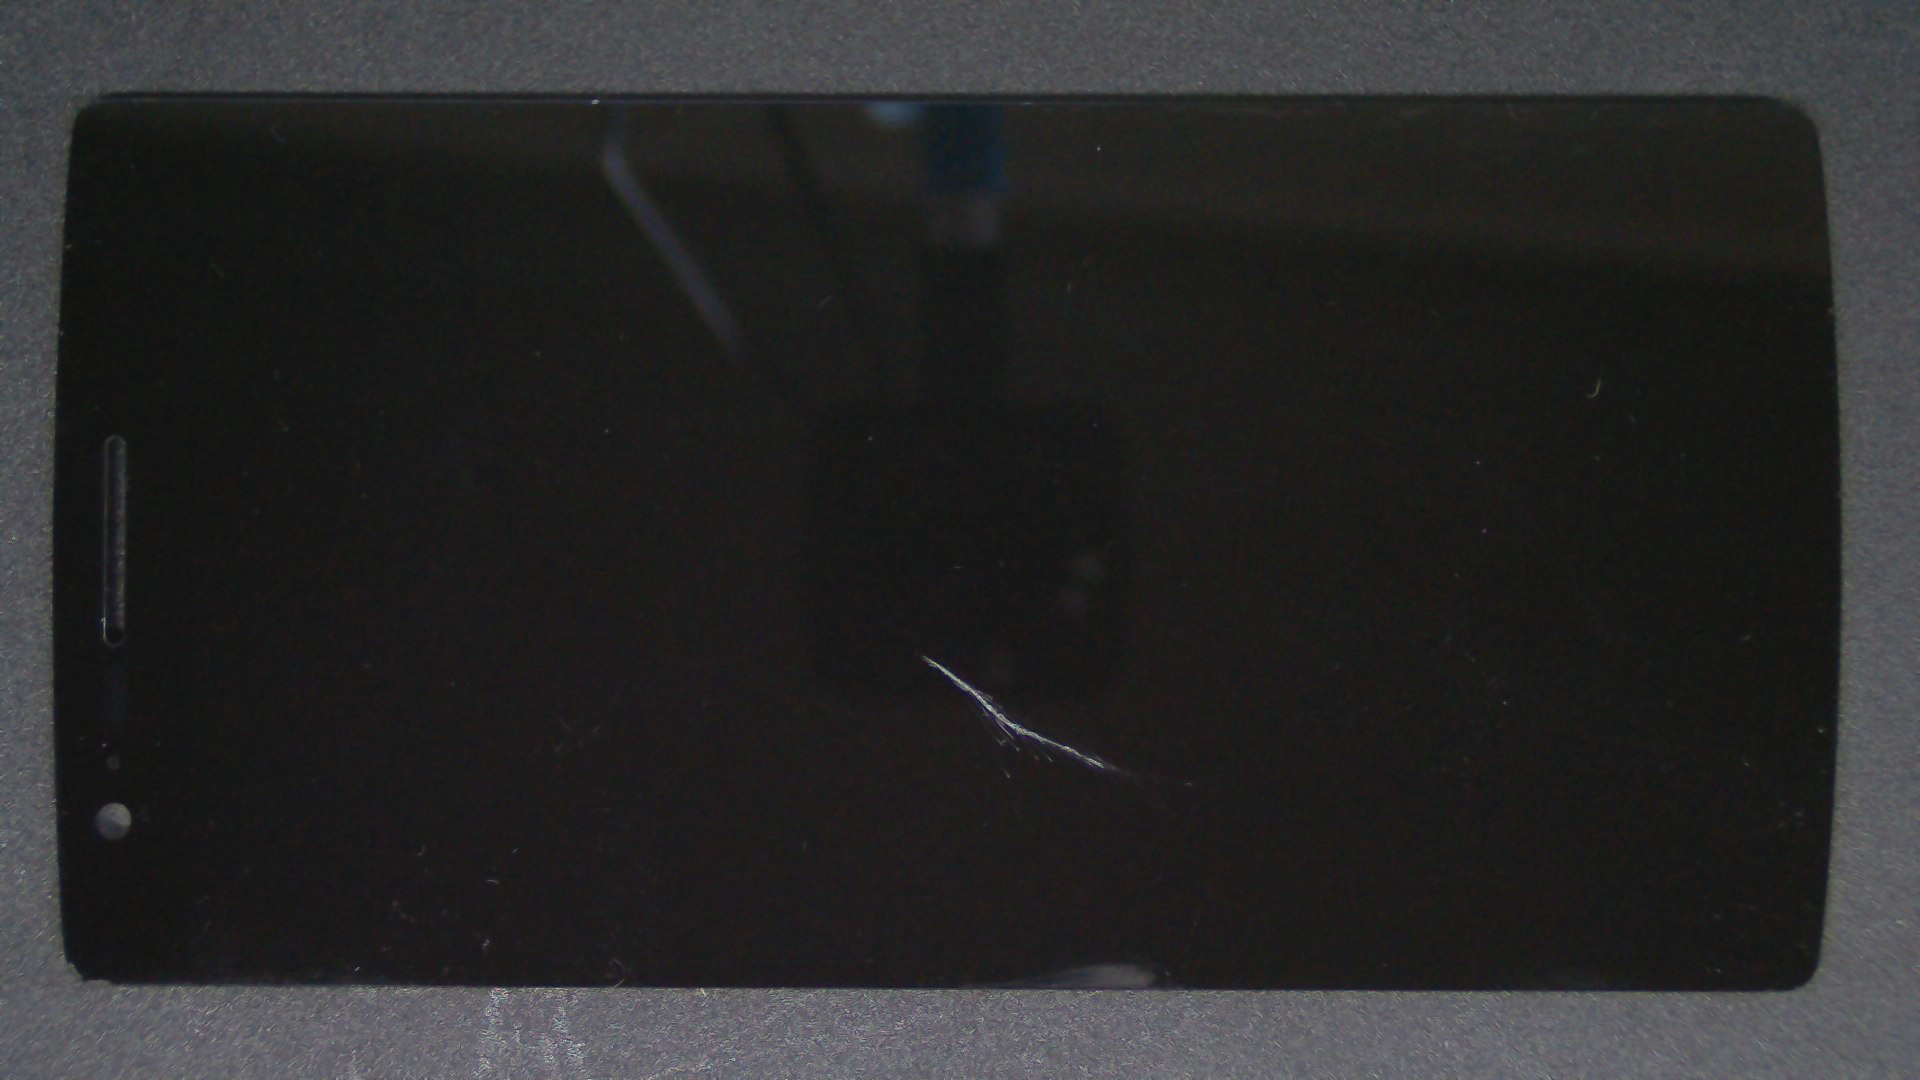defect: (922, 655, 1116, 767)
